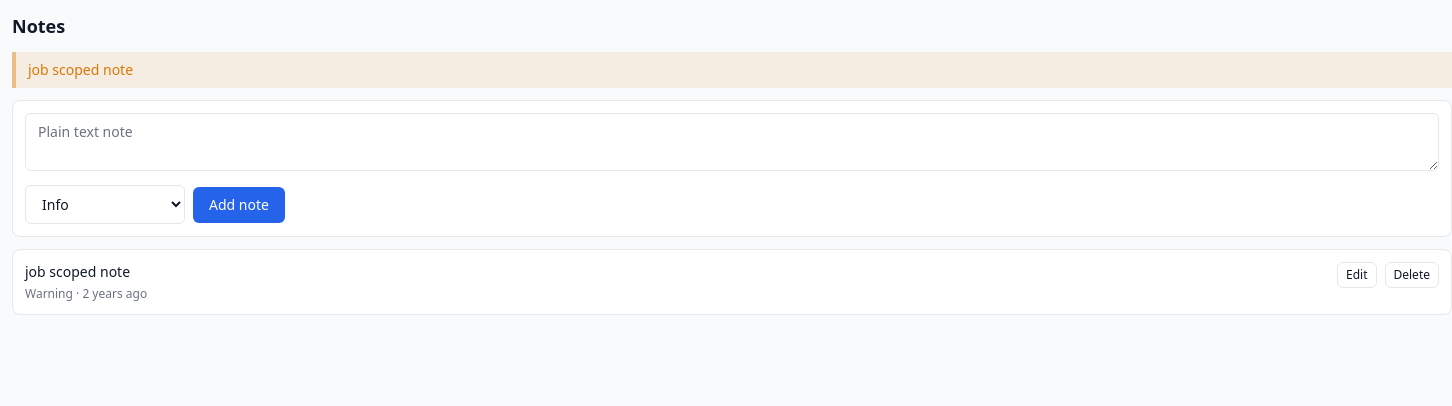
NotesSection › scopes itself to a job with the job catalog keys and JN ids
Expected: the element with test id "job-notes-severity-strip" is shown, [12, 52, 1451, 88]
Expected: the list item with test id "job-note-row-JN1" shows "job scoped note", [25, 262, 130, 281]
Step 1. Type "second job note" into the text box with placeholder "Plain text note" → {"x": 732, "y": 142}, box [25, 113, 1439, 171]
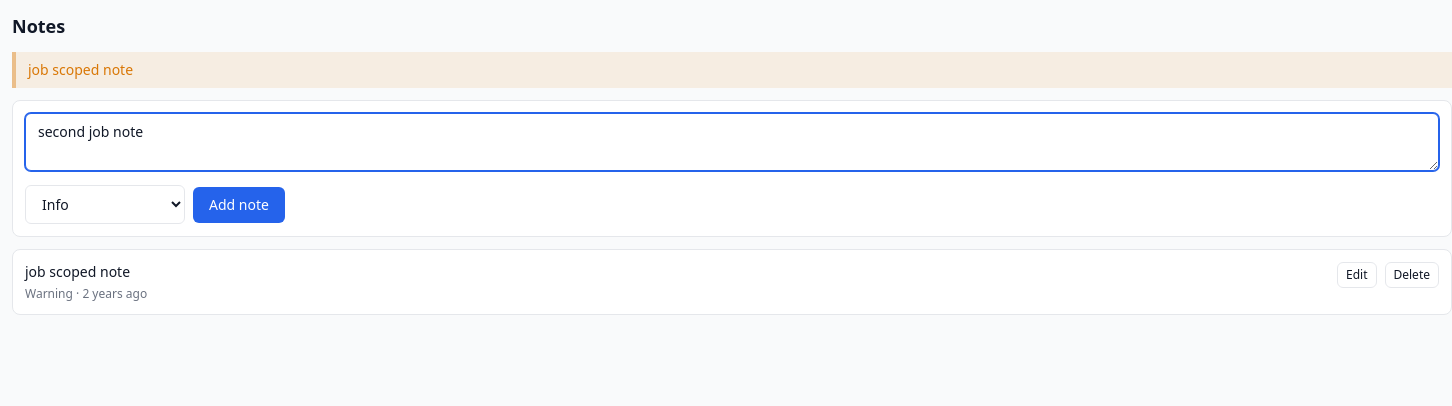
Step 2. Click the button with test id "job-note-add" → {"x": 239, "y": 204}, box [193, 186, 285, 222]
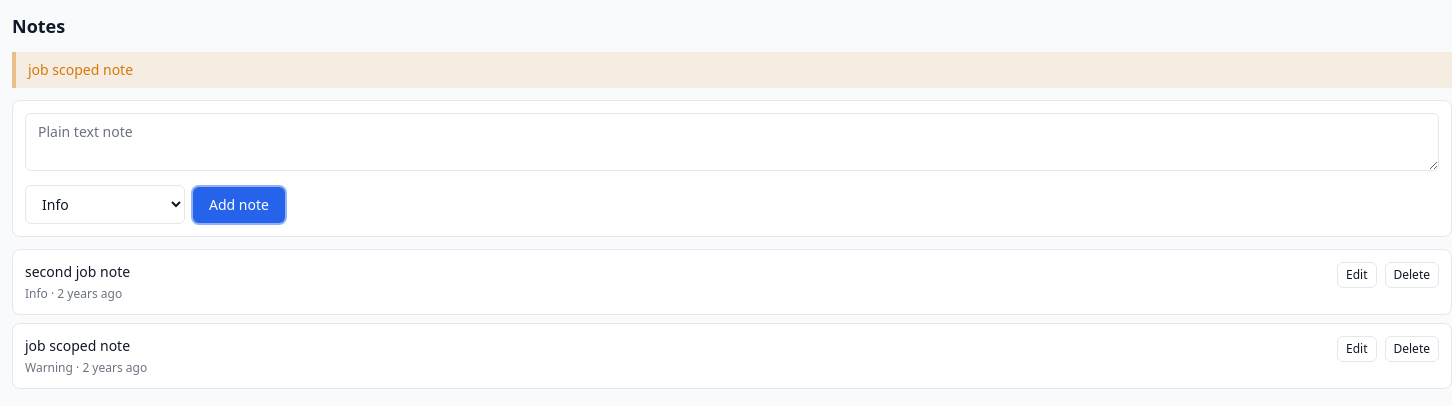
Expected: the list item with test id "job-note-row-JN2" is shown, [12, 249, 1451, 315]
